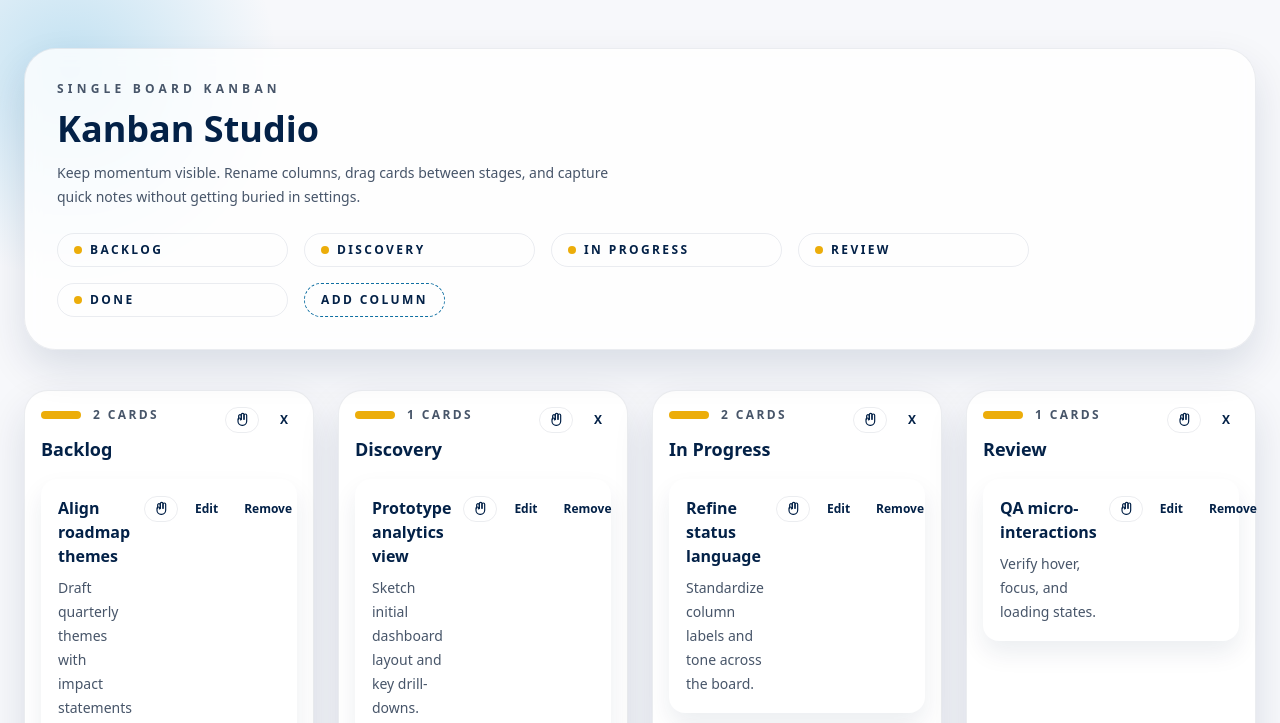
Test: KanbanBoard › edits a card
The width and height of the screenshot is (1280, 723).
Click the button with aria-label "edit align roadmap themes" at (207, 509), box [186,496,227,522]
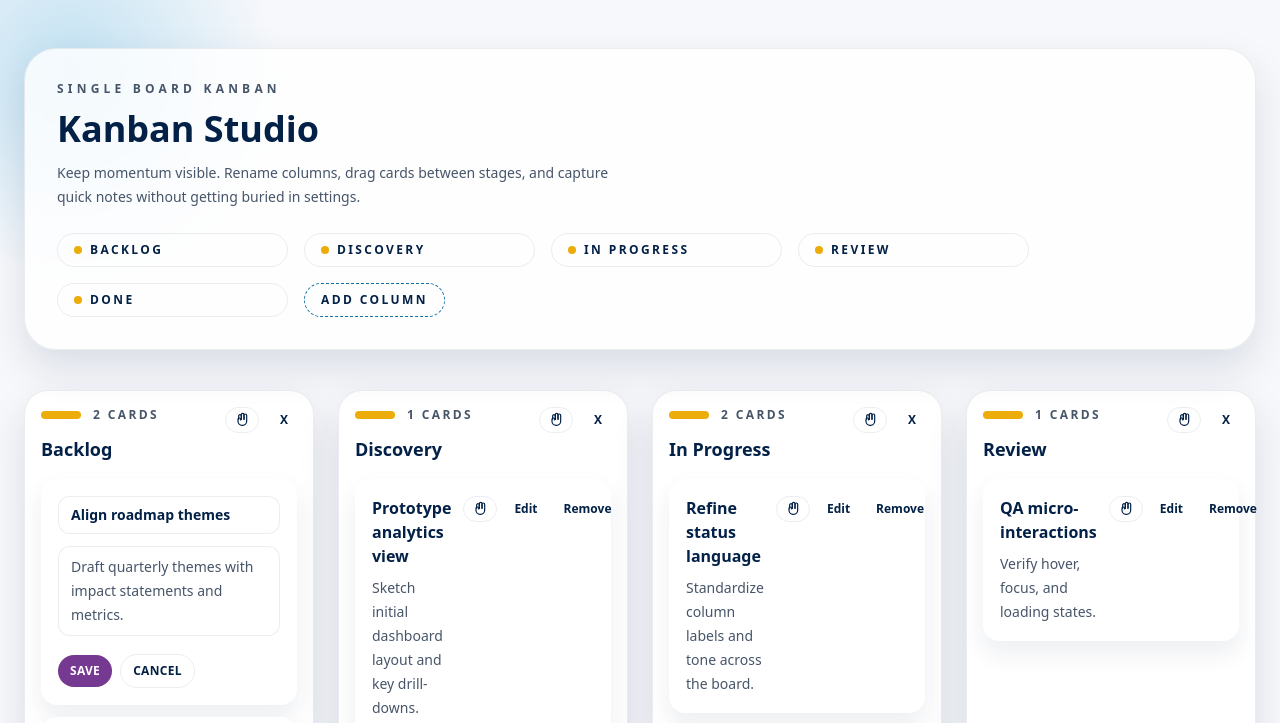
Replace the text in the field with test id "card-card-1-edit-title" with "Updated card" at (169, 515), box [58,496,280,534]
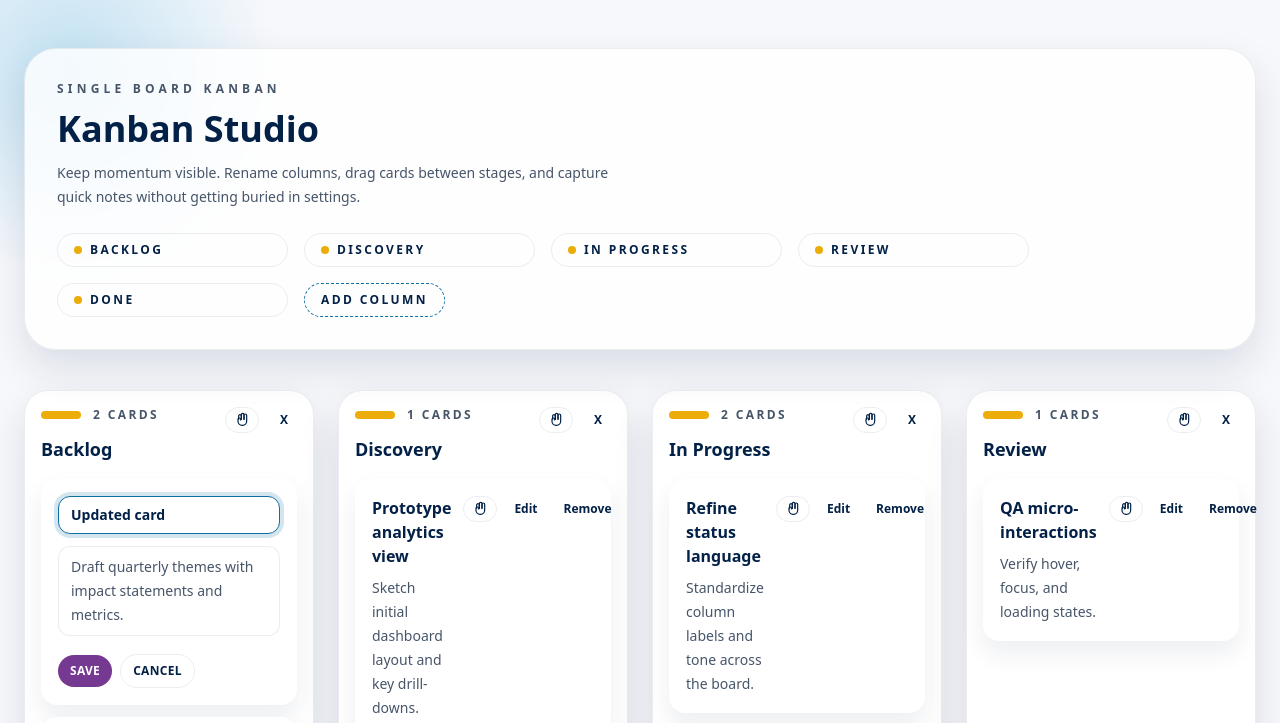
Replace the text in the text box with test id "card-card-1-edit-details" with "Updated details" at (169, 591), box [58,546,280,636]
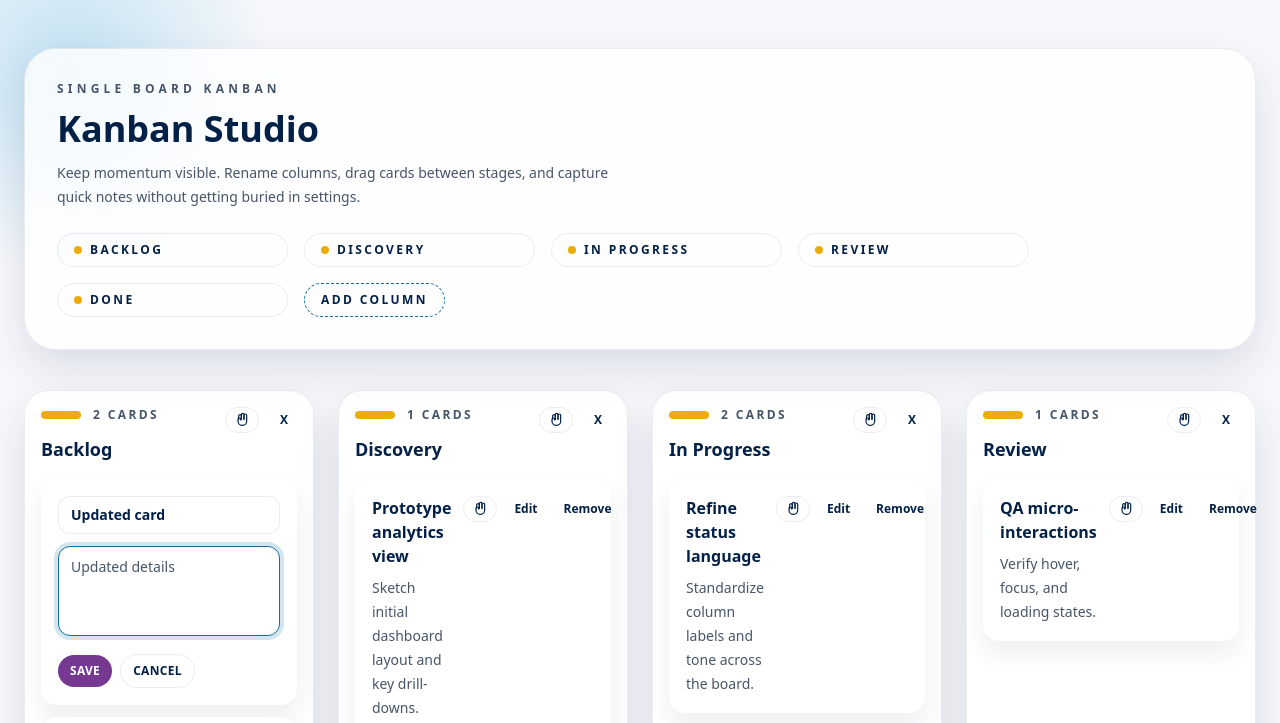
Click the button with test id "card-card-1-save" at (85, 671), box [58,655,112,687]
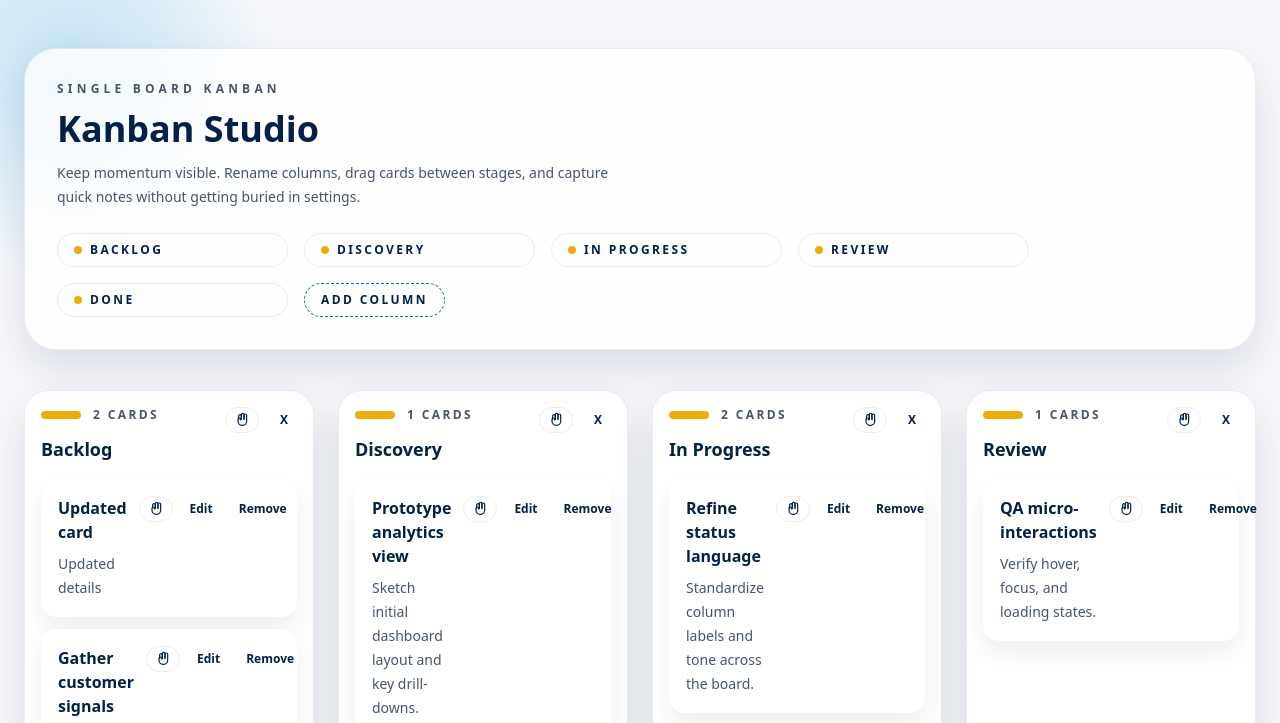
Expected: the heading "Updated card" is shown, [58,496,126,544]
Expected: the text "Updated details" is shown, [58,554,115,597]
